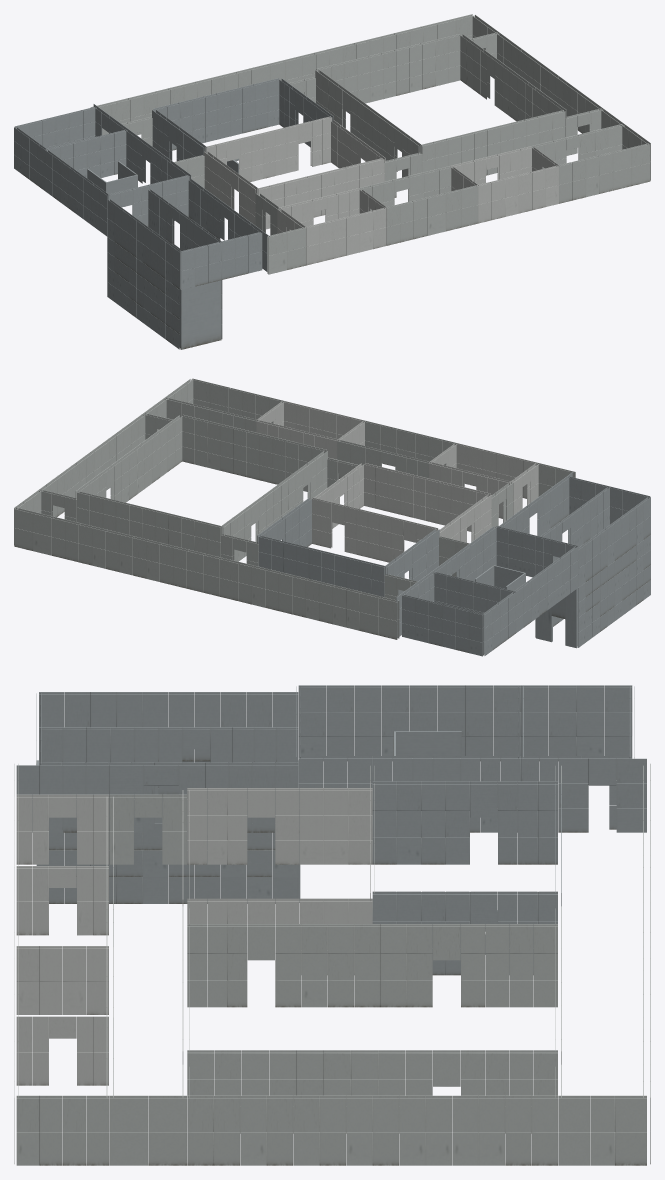
The model's file is WC_B3_Walls.fbx.
3 renders of one model, top to bottom at view 1: azimuth 30°, elevation 25°; view 2: azimuth 150°, elevation 25°; view 3: azimuth 270°, elevation 25°, orthographic. The views are drawn at different scales.
Parts seen in each view (by area): view 1: WS_B3_WS_Steel_5_3, WS_B3_WS_Staff_0_3, WS_B3_WS_Steel_5_2, WS_B3_WS_Staff_2_3, WS_B3_WS_Staff_0_0, WS_B3_WS_Steel_5_0, WS_B3_WS_Staff_1_0, WS_B3_WS_Clean_3_3, WS_B3_WS_Clean_1_3, WS_B3_WS_Steel_3_0, WS_B3_WS_Clean_4_3, WS_B3_WS_Steel_4_0 (+23 smaller); view 2: WS_B3_WS_Steel_5_3, WS_B3_WS_Steel_5_2, WS_B3_WS_Steel_5_0, WS_B3_WS_Staff_0_0, WS_B3_WS_Staff_1_0, WS_B3_WS_Staff_2_0, WS_B3_WS_Staff_0_2, WS_B3_WS_Staff_0_3, WS_B3_WS_Staff_4_0, WS_B3_WS_Steel_4_0, WS_B3_WS_Staff_1_2, WS_B3_WS_Clean_3_2 (+25 smaller); view 3: WS_B3_WS_Staff_0_2, WS_B3_WS_Steel_5_3, WS_B3_WS_Staff_0_1, WS_B3_WS_Staff_0_0, WS_B3_WS_Steel_5_2, WS_B3_WS_Steel_4_0, WS_B3_WS_Steel_4_1, WS_B3_WS_Staff_0_3, WS_B3_WS_Steel_5_1, WS_B3_WS_Staff_2_1, WS_B3_WS_Staff_2_2, WS_B3_WS_Steel_5_0 (+14 smaller).
Boxes of the visible parts, x1=… form: WS_B3_WS_Steel_5_3: x1=136, y1=212, x2=248, y2=349; WS_B3_WS_Staff_0_3: x1=526, y1=108, x2=650, y2=200; WS_B3_WS_Steel_5_2: x1=99, y1=178, x2=181, y2=317; WS_B3_WS_Staff_2_3: x1=381, y1=140, x2=478, y2=239; WS_B3_WS_Staff_0_0: x1=394, y1=14, x2=521, y2=94; WS_B3_WS_Steel_5_0: x1=14, y1=110, x2=113, y2=196; WS_B3_WS_Staff_1_0: x1=314, y1=33, x2=422, y2=103; WS_B3_WS_Clean_3_3: x1=296, y1=162, x2=386, y2=255; WS_B3_WS_Clean_1_3: x1=473, y1=146, x2=559, y2=219; WS_B3_WS_Steel_3_0: x1=191, y1=81, x2=267, y2=161; WS_B3_WS_Clean_4_3: x1=259, y1=180, x2=346, y2=265; WS_B3_WS_Steel_4_0: x1=81, y1=99, x2=192, y2=174; WS_B3_WS_Steel_5_3: x1=568, y1=480, x2=650, y2=626; WS_B3_WS_Steel_5_2: x1=509, y1=516, x2=607, y2=648; WS_B3_WS_Steel_5_0: x1=415, y1=575, x2=523, y2=656; WS_B3_WS_Staff_0_0: x1=14, y1=473, x2=117, y2=565; WS_B3_WS_Staff_1_0: x1=92, y1=501, x2=196, y2=585; WS_B3_WS_Staff_2_0: x1=173, y1=512, x2=258, y2=604; WS_B3_WS_Staff_0_2: x1=98, y1=414, x2=220, y2=488; WS_B3_WS_Staff_0_3: x1=143, y1=378, x2=270, y2=432; WS_B3_WS_Staff_4_0: x1=319, y1=574, x2=417, y2=639; WS_B3_WS_Steel_4_0: x1=346, y1=554, x2=447, y2=639; WS_B3_WS_Staff_1_2: x1=220, y1=425, x2=298, y2=484; WS_B3_WS_Clean_3_2: x1=375, y1=467, x2=450, y2=525; WS_B3_WS_Staff_0_2: x1=187, y1=1017, x2=345, y2=1165; WS_B3_WS_Steel_5_3: x1=36, y1=692, x2=194, y2=903; WS_B3_WS_Staff_0_1: x1=323, y1=1050, x2=484, y2=1165; WS_B3_WS_Staff_0_0: x1=478, y1=1017, x2=650, y2=1165; WS_B3_WS_Steel_5_2: x1=182, y1=685, x2=325, y2=903; WS_B3_WS_Steel_4_0: x1=481, y1=745, x2=646, y2=864; WS_B3_WS_Steel_4_1: x1=348, y1=756, x2=497, y2=864; WS_B3_WS_Staff_0_3: x1=14, y1=1017, x2=186, y2=1165; WS_B3_WS_Steel_5_1: x1=326, y1=685, x2=492, y2=780; WS_B3_WS_Staff_2_1: x1=328, y1=924, x2=484, y2=1007; WS_B3_WS_Staff_2_2: x1=187, y1=908, x2=327, y2=1007; WS_B3_WS_Steel_5_0: x1=493, y1=685, x2=634, y2=760.
Bounding box in the file's own units: 5187 × 1119 × 3434.
